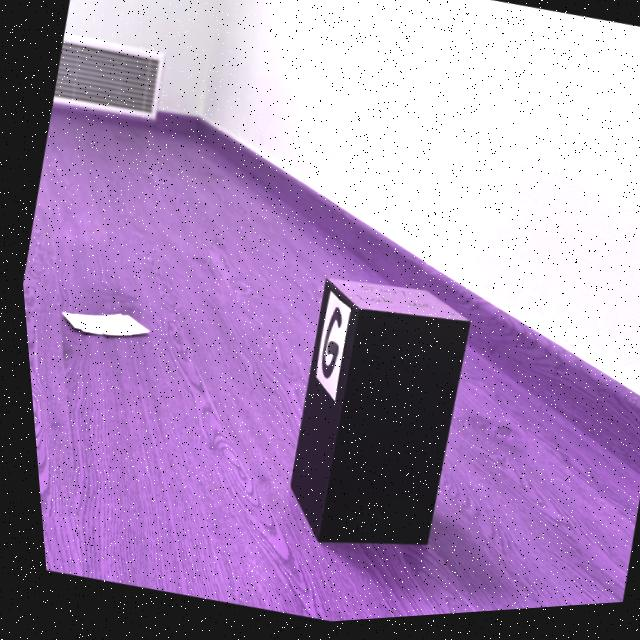G: (314, 311, 336, 382)
